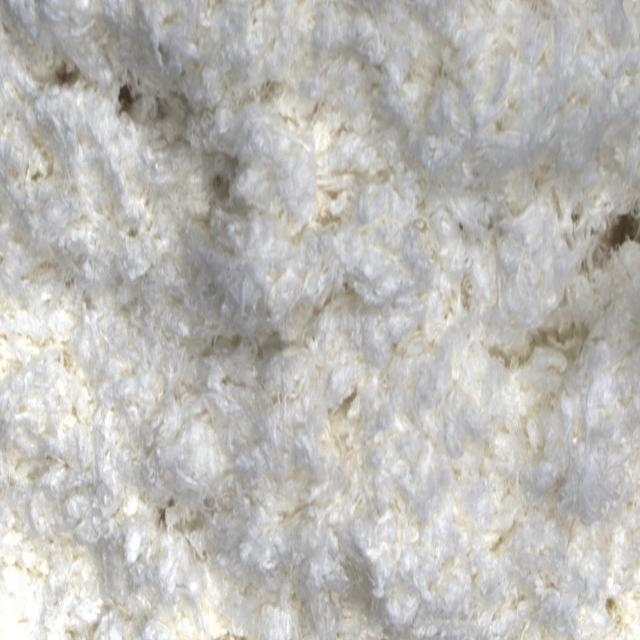dust: (585, 209, 640, 271)
